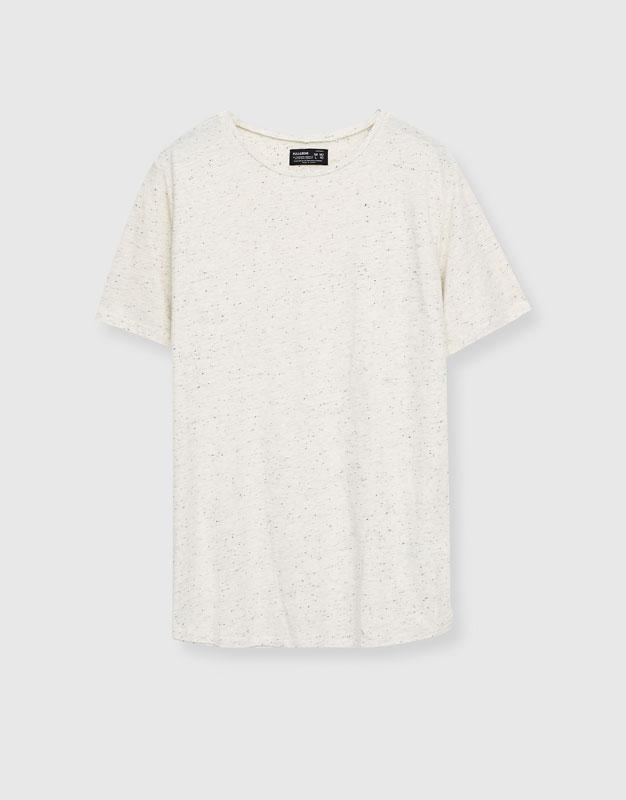teeshirt: (66, 84, 530, 691)
